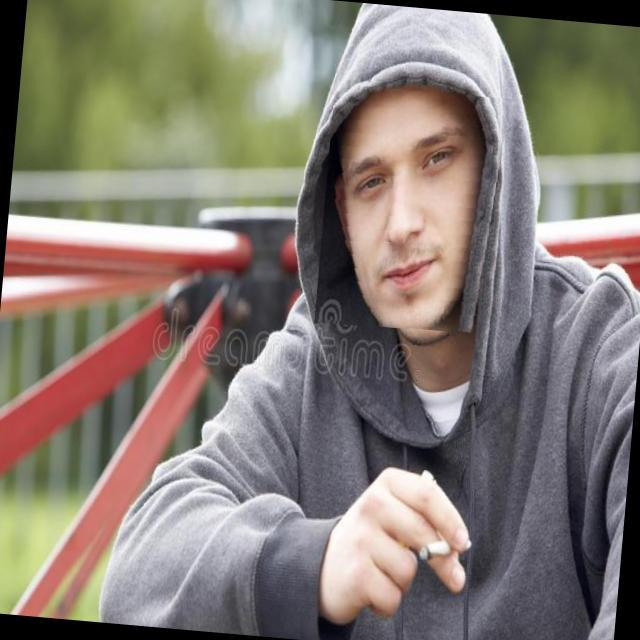cigarette: (402, 518, 480, 572)
